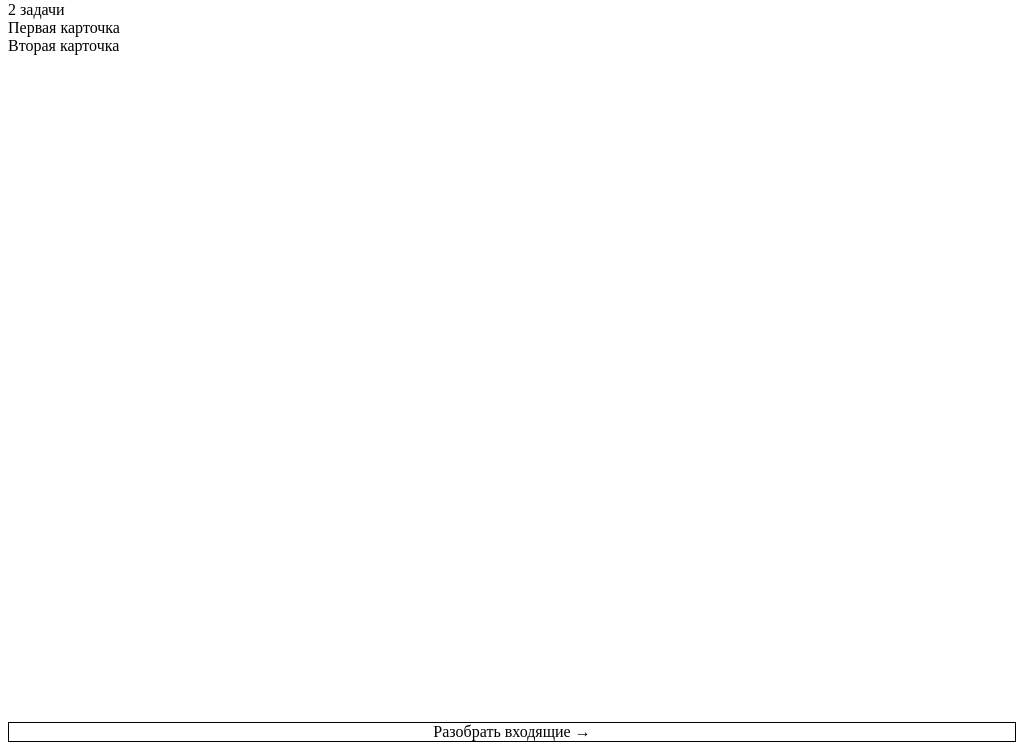
Inbox — клик по карточке открывает Task Detail (E10.2) › адверсариальная проверка: клик по кнопке «Пропустить» двигает очередь, но НЕ открывает Task Detail
(page scrolled)
Expected: the text "Первая карточка" is shown, [8,19,120,37]
Click the button "Разобрать входящие →" at point(512, 732), box [8,722,1016,742]
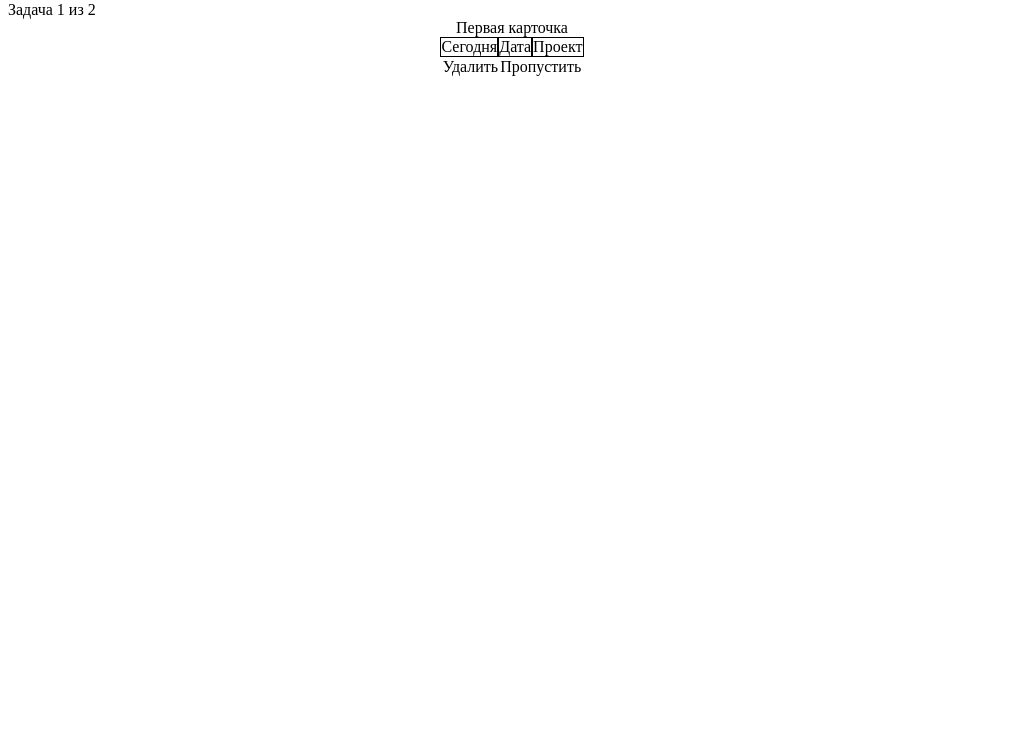
Click the button "Пропустить" at point(541, 67), box [499,57,582,77]
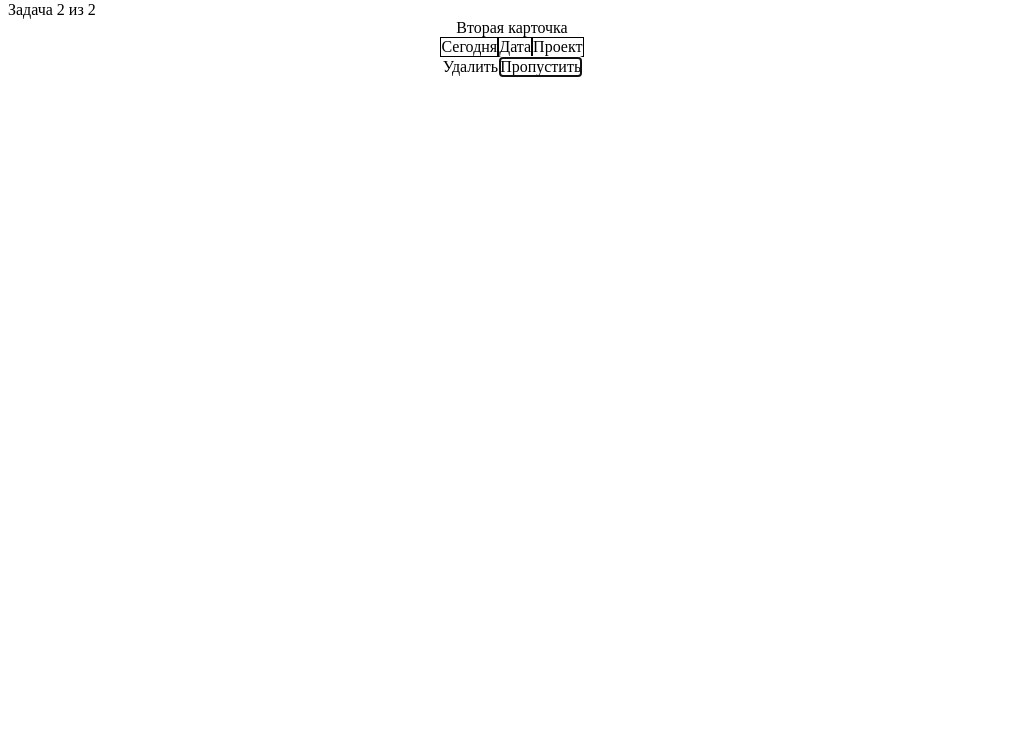
Result: the text "Вторая карточка" is shown at [456,19,568,36]
